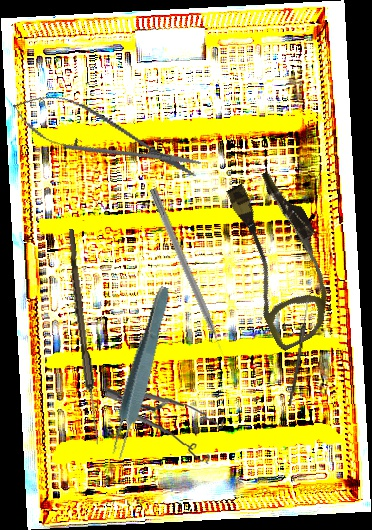Cannula: (207, 164, 356, 353)
Micro Scissor: (5, 82, 207, 193)
Pusher: (147, 187, 229, 363)
Speculum: (104, 381, 227, 471)
Surgical Spoon: (63, 228, 104, 446), (288, 296, 311, 407)
Tissue Forceps: (104, 283, 176, 462)
